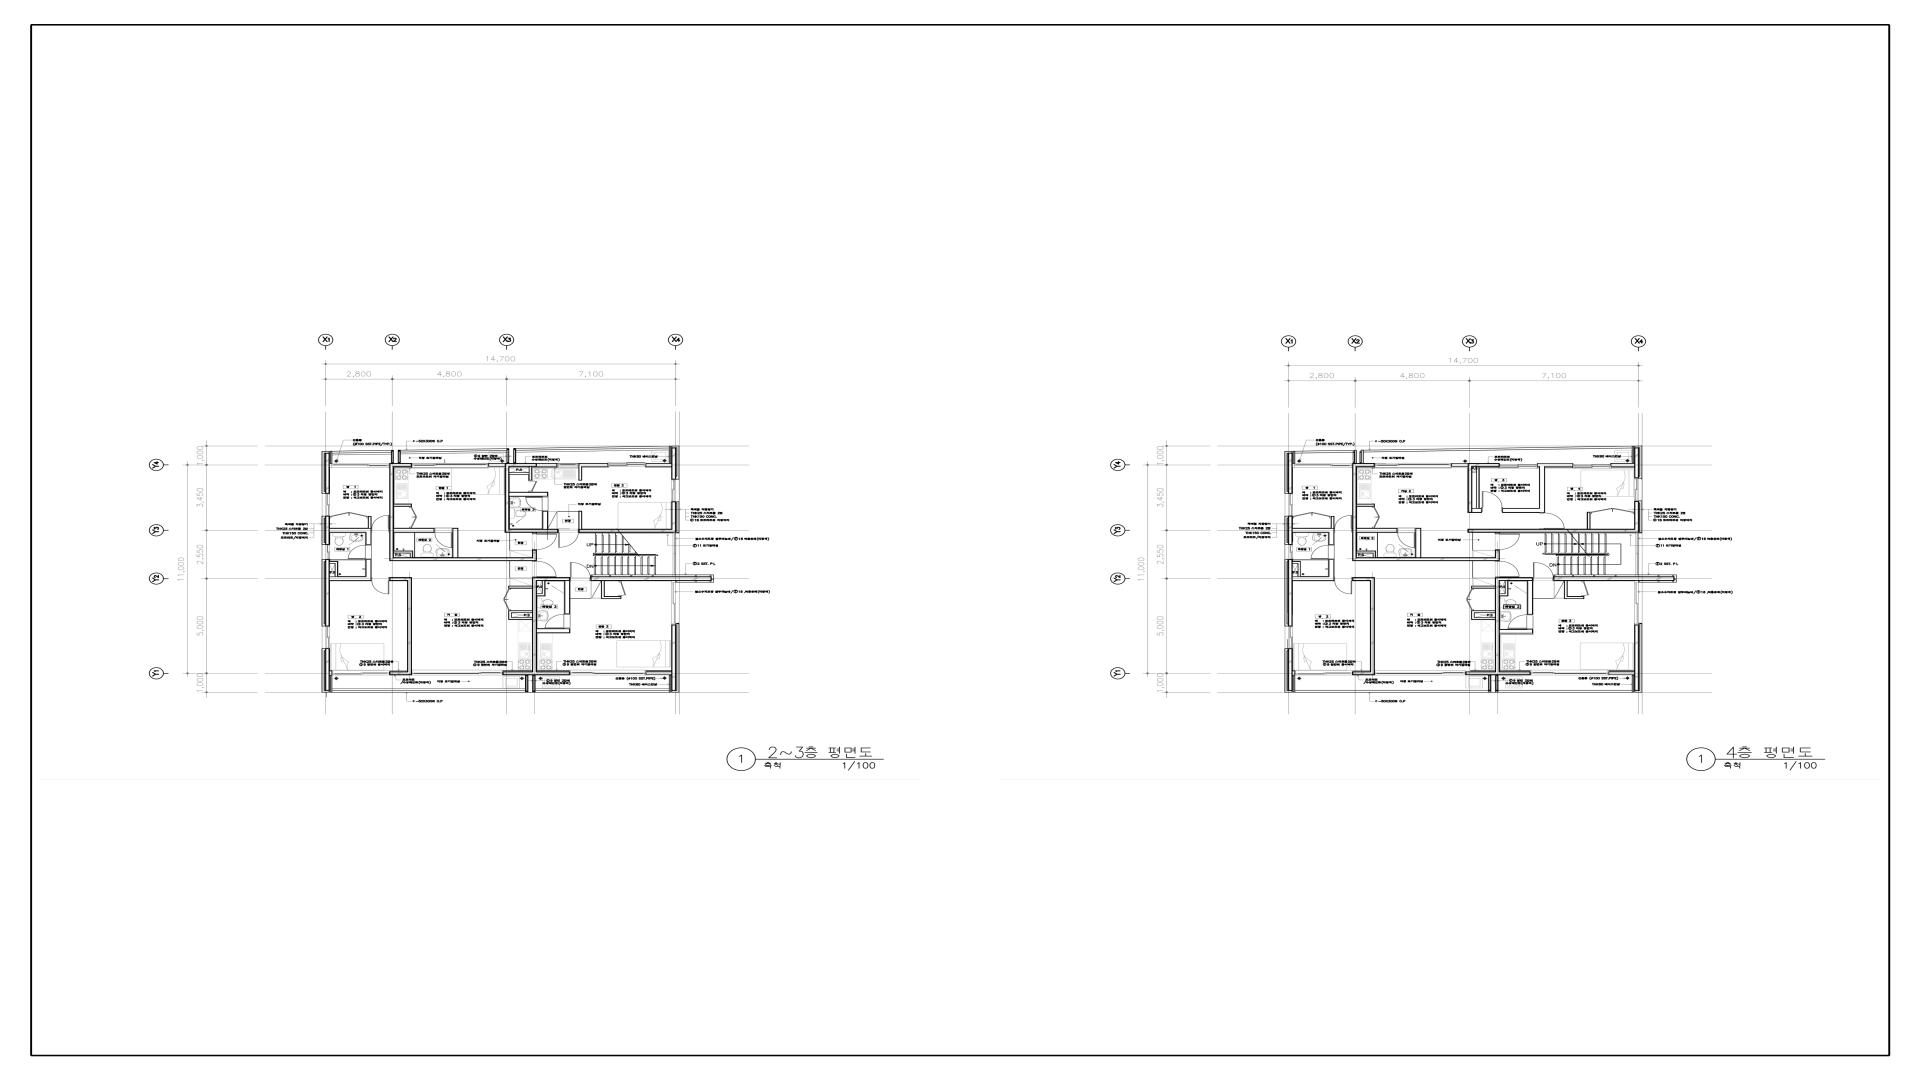door: (1482, 491, 1503, 512), (1495, 533, 1520, 550), (531, 533, 556, 550), (545, 613, 571, 629), (570, 562, 591, 582), (1495, 560, 1519, 578), (533, 560, 556, 578), (1534, 562, 1553, 582), (434, 527, 452, 549), (558, 529, 579, 547), (1507, 615, 1534, 629), (1540, 513, 1564, 529), (525, 496, 549, 512), (1311, 545, 1335, 559), (348, 545, 372, 559), (1398, 527, 1415, 547), (1335, 578, 1353, 595), (1335, 516, 1353, 533), (372, 578, 389, 595), (372, 516, 389, 533), (1581, 582, 1589, 596), (618, 582, 626, 596), (529, 480, 537, 492)
wall: (1364, 446, 1633, 452), (517, 446, 669, 451), (1553, 576, 1675, 582), (591, 576, 712, 582), (517, 448, 669, 452), (1357, 558, 1495, 562), (1495, 529, 1634, 533), (1295, 690, 1489, 692), (332, 688, 525, 691), (389, 467, 394, 562), (1352, 467, 1357, 560), (1370, 578, 1375, 671), (401, 448, 506, 452), (407, 578, 411, 671), (394, 558, 533, 560), (579, 529, 671, 533), (1495, 580, 1499, 671), (533, 580, 537, 671), (1498, 690, 1633, 692), (535, 688, 669, 691), (1634, 625, 1639, 691), (505, 467, 510, 533), (671, 625, 676, 690), (401, 451, 506, 454), (1539, 467, 1545, 508), (1288, 559, 1292, 626), (502, 671, 570, 675), (326, 559, 330, 626), (332, 691, 525, 692), (1466, 671, 1530, 675), (1295, 450, 1354, 454), (332, 450, 392, 454), (1502, 508, 1545, 513), (330, 527, 372, 533), (330, 576, 372, 582), (1292, 576, 1335, 582), (1292, 527, 1335, 533), (1527, 582, 1534, 615), (1357, 527, 1398, 533), (394, 527, 434, 533), (564, 582, 571, 613), (452, 527, 459, 558), (1415, 527, 1422, 558), (510, 529, 558, 533), (1468, 467, 1472, 513), (535, 691, 669, 692), (1288, 649, 1292, 691), (1634, 501, 1639, 533), (1634, 447, 1639, 479), (671, 501, 676, 533), (326, 649, 330, 691), (1288, 452, 1292, 493), (326, 452, 330, 493), (671, 448, 676, 479), (332, 452, 392, 455), (509, 492, 549, 496), (1495, 578, 1534, 582), (533, 578, 570, 582), (1538, 463, 1573, 467), (1499, 629, 1534, 633), (537, 629, 571, 633), (1468, 463, 1499, 467), (505, 463, 537, 467), (1288, 516, 1292, 545), (326, 516, 330, 545), (579, 463, 608, 467), (365, 559, 372, 576), (542, 512, 549, 529), (1468, 529, 1495, 533), (1477, 467, 1480, 508), (1609, 671, 1634, 675), (646, 671, 671, 675), (646, 463, 671, 467), (1329, 559, 1335, 576), (1353, 671, 1375, 675), (1611, 463, 1634, 467), (1353, 463, 1375, 467), (390, 671, 413, 675), (389, 463, 411, 467), (537, 463, 558, 467), (365, 533, 372, 545), (389, 578, 407, 582), (579, 510, 583, 529), (1353, 578, 1370, 582), (1564, 582, 1568, 599), (1586, 512, 1590, 529), (525, 675, 529, 692), (488, 463, 505, 467), (601, 582, 605, 599), (508, 611, 533, 613), (1472, 611, 1495, 613), (1329, 533, 1335, 545), (1472, 585, 1495, 588), (1452, 463, 1468, 467), (509, 585, 533, 588), (513, 448, 517, 463), (1474, 617, 1495, 620), (1472, 508, 1482, 513), (512, 617, 533, 620), (335, 563, 339, 576), (368, 516, 372, 529), (1505, 580, 1509, 593), (1357, 551, 1377, 554), (1331, 516, 1335, 529), (579, 467, 583, 480), (509, 472, 529, 475), (394, 551, 413, 554), (1357, 504, 1375, 506), (330, 559, 365, 560), (1292, 559, 1328, 560), (394, 504, 411, 506), (1292, 675, 1295, 692), (1499, 633, 1534, 634), (1568, 596, 1585, 599), (1489, 675, 1491, 692), (1495, 675, 1498, 692), (533, 675, 535, 692), (669, 675, 671, 692), (330, 675, 332, 692), (669, 446, 671, 463), (533, 550, 537, 560), (1495, 550, 1499, 560), (605, 596, 621, 599), (506, 448, 509, 463), (1298, 563, 1300, 576), (1354, 450, 1357, 463), (1292, 451, 1295, 464), (398, 450, 401, 463), (392, 450, 394, 463), (330, 451, 332, 464), (542, 580, 545, 593), (529, 467, 531, 480), (1377, 533, 1378, 558), (414, 533, 415, 558), (1360, 451, 1362, 463), (508, 613, 512, 620), (330, 560, 339, 563), (1499, 593, 1509, 596), (1633, 675, 1634, 692), (1633, 446, 1634, 463), (1292, 560, 1300, 563), (537, 593, 545, 596), (1472, 613, 1474, 620), (1362, 450, 1364, 463), (1373, 554, 1377, 558), (1292, 670, 1295, 675), (1353, 452, 1354, 463), (330, 670, 332, 675), (410, 554, 413, 558), (1634, 624, 1639, 625)
window: (411, 670, 504, 675), (1375, 670, 1466, 675), (1530, 670, 1609, 675), (1374, 463, 1452, 468), (570, 670, 646, 675), (411, 463, 488, 468), (1635, 533, 1643, 576), (1634, 583, 1642, 624), (671, 583, 679, 624), (1292, 463, 1352, 468), (330, 463, 389, 468), (332, 670, 390, 675), (673, 533, 679, 575), (1295, 671, 1353, 675), (1634, 479, 1643, 501), (1284, 493, 1292, 516), (1284, 626, 1292, 649), (671, 479, 679, 501), (322, 626, 330, 649), (322, 493, 330, 516), (1573, 464, 1611, 468), (1499, 464, 1538, 468), (608, 463, 646, 467), (1284, 545, 1294, 559), (556, 463, 579, 468), (322, 545, 330, 559)
